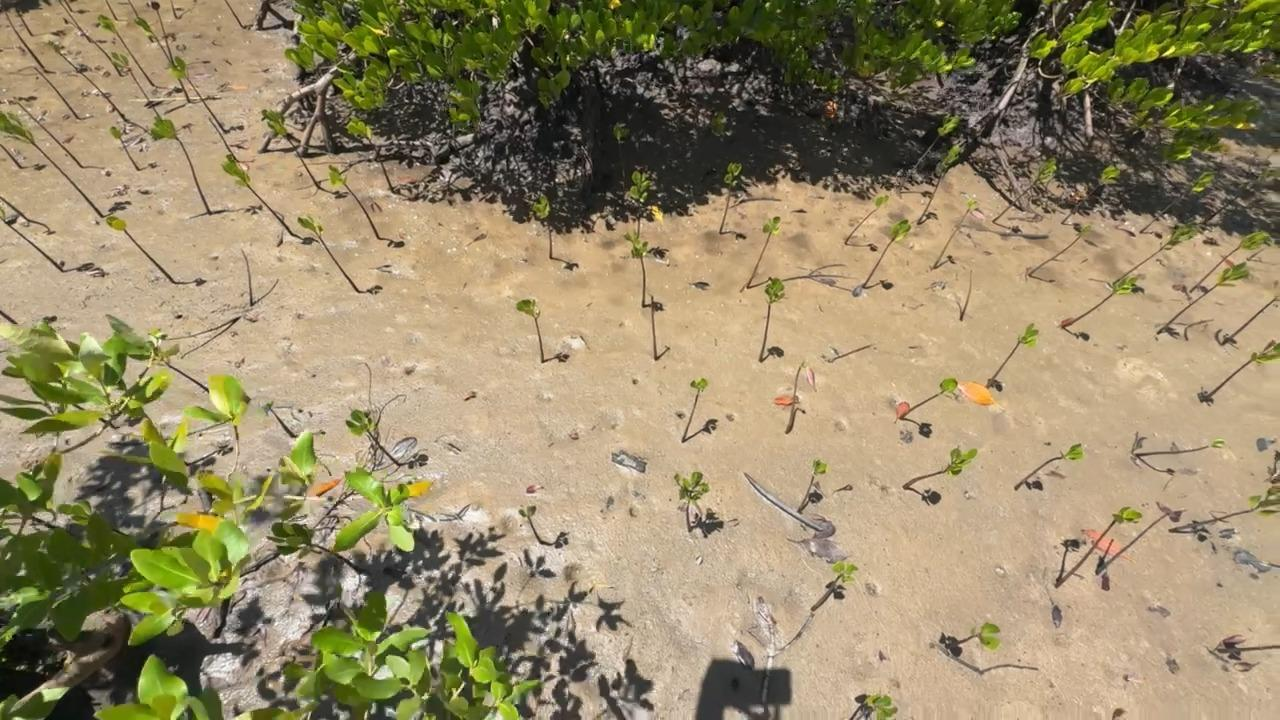Tree: (0, 109, 104, 217), (1054, 506, 1143, 588), (1156, 261, 1250, 335), (1095, 502, 1188, 575), (45, 40, 126, 120), (149, 116, 213, 215), (1111, 221, 1198, 285), (220, 154, 292, 231), (1188, 229, 1273, 293), (1168, 486, 1280, 534), (896, 115, 960, 198), (261, 107, 322, 190), (133, 18, 191, 104), (1201, 340, 1280, 403), (266, 522, 363, 573), (105, 216, 176, 283), (1139, 171, 1213, 234), (16, 102, 84, 169), (1203, 166, 1280, 225), (169, 56, 227, 132), (991, 157, 1057, 223), (0, 205, 65, 272), (297, 214, 352, 293), (1061, 277, 1138, 329), (1220, 280, 1280, 346), (916, 144, 963, 225), (347, 115, 396, 190), (62, 17, 123, 77), (985, 322, 1039, 389), (327, 164, 377, 234), (1061, 165, 1120, 224), (1014, 443, 1085, 491), (903, 445, 977, 491), (1028, 224, 1092, 277), (863, 219, 912, 288), (933, 197, 977, 269), (345, 409, 400, 466), (1, 3, 45, 69), (151, 346, 209, 392), (784, 359, 818, 434), (900, 377, 959, 420), (810, 561, 859, 612), (746, 216, 780, 289), (758, 276, 786, 363), (34, 67, 79, 120), (844, 195, 889, 246), (674, 471, 710, 533), (145, 0, 175, 66), (624, 228, 649, 307), (516, 299, 545, 363), (1133, 438, 1225, 458), (681, 378, 709, 443), (797, 458, 830, 511), (719, 162, 742, 233), (57, 2, 92, 43), (629, 171, 649, 238), (954, 622, 1001, 650), (533, 194, 553, 259), (207, 117, 236, 160), (260, 400, 293, 435), (110, 126, 134, 171), (129, 0, 154, 43), (613, 121, 629, 182), (826, 343, 872, 363), (864, 693, 898, 720), (519, 505, 542, 544), (959, 269, 974, 322), (12, 0, 34, 36), (240, 250, 253, 304), (0, 197, 28, 220), (1216, 644, 1280, 654), (981, 663, 1039, 674), (225, 0, 244, 29), (0, 143, 22, 168), (651, 295, 658, 361), (1246, 246, 1268, 261), (0, 309, 18, 325), (106, 0, 119, 21), (170, 1, 178, 18), (64, 0, 73, 12)
